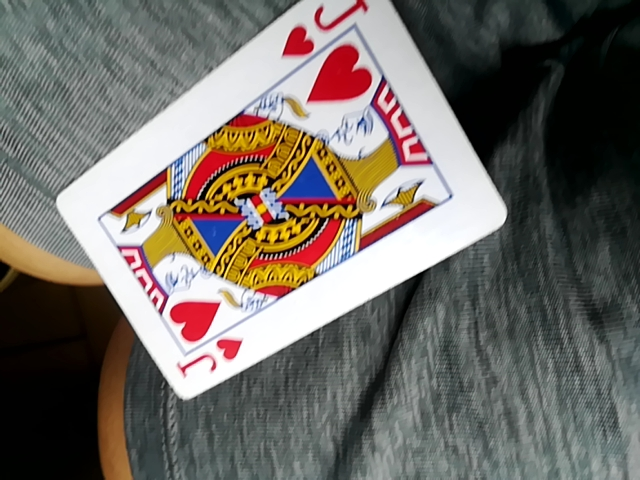hx j: (57, 0, 507, 413)
